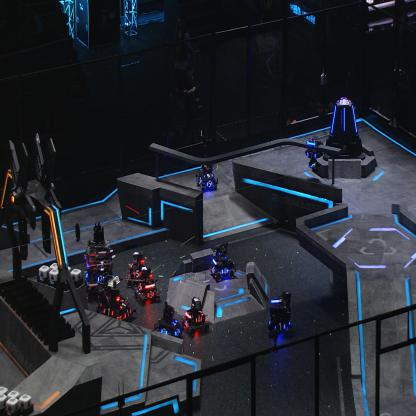car: (96, 274, 136, 328), (82, 238, 114, 298), (265, 291, 293, 338), (180, 296, 212, 337), (154, 300, 183, 344), (208, 239, 237, 281), (134, 266, 160, 306), (126, 250, 150, 287), (194, 156, 218, 191)
